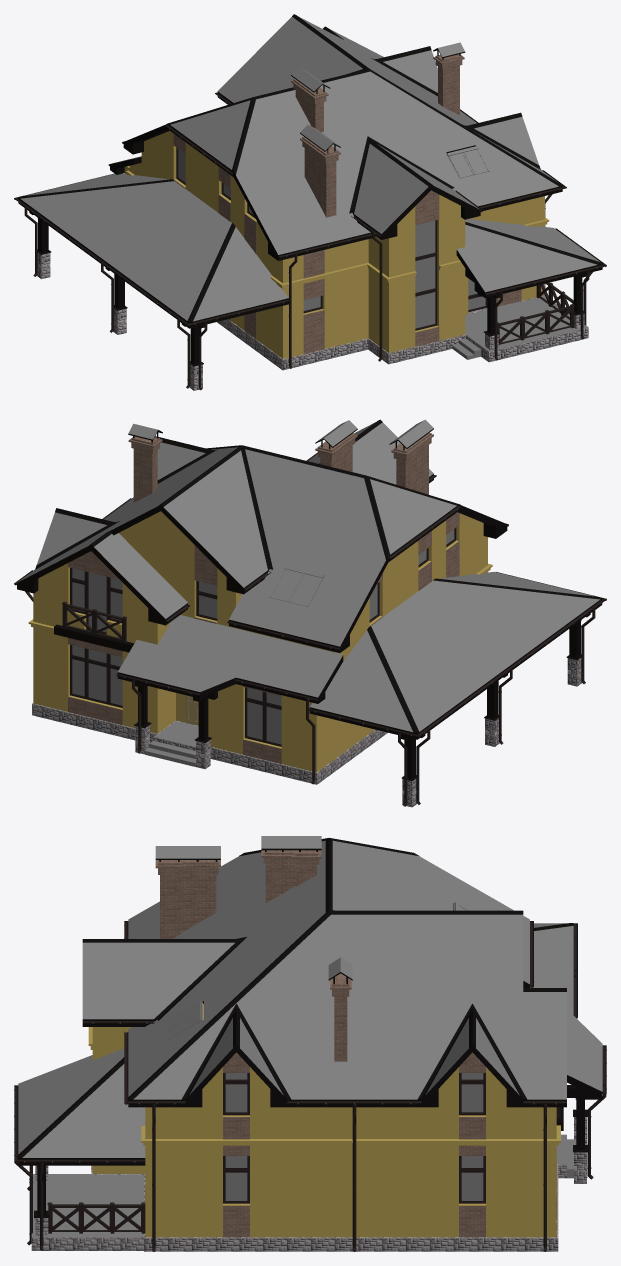
3 renders of one model, top to bottom at view 1: azimuth 30°, elevation 25°; view 2: azimuth 150°, elevation 25°; view 3: azimuth 270°, elevation 25°, orthographic. The views are drawn at different scales.
Visible parts, largest first — view 1: House_1, 295:1:05, 158:1:11, 90:1:11, 49:1:11, 19:7:07, 99:1:11; view 2: House_1, 295:1:05, 158:1:11, 90:1:11, 49:1:11, 19:7:07, 99:1:11, 365:4:09; view 3: House_1, 295:1:05, 90:1:11, 49:1:11, 99:1:11, 19:7:07.
Boxes of the visible parts, x1,y1,x2,y2 form: House_1: (18,14,602,390); 295:1:05: (124,131,549,358); 158:1:11: (20,181,231,320); 90:1:11: (173,54,521,353); 49:1:11: (14,92,606,390); 19:7:07: (178,149,487,328); 99:1:11: (452,296,588,359); House_1: (17,419,602,807); 295:1:05: (28,511,492,772); 158:1:11: (371,580,599,731); 90:1:11: (68,432,459,763); 49:1:11: (14,452,606,806); 19:7:07: (72,529,454,744); 99:1:11: (145,721,198,766); 365:4:09: (124,479,600,735); House_1: (18,836,602,1251); 295:1:05: (88,1027,560,1237); 90:1:11: (145,850,556,1237); 49:1:11: (14,921,606,1251); 99:1:11: (31,1134,587,1237); 19:7:07: (168,906,483,1200).
Bounding box in the file's own units: 16692 × 9809 × 17442.
